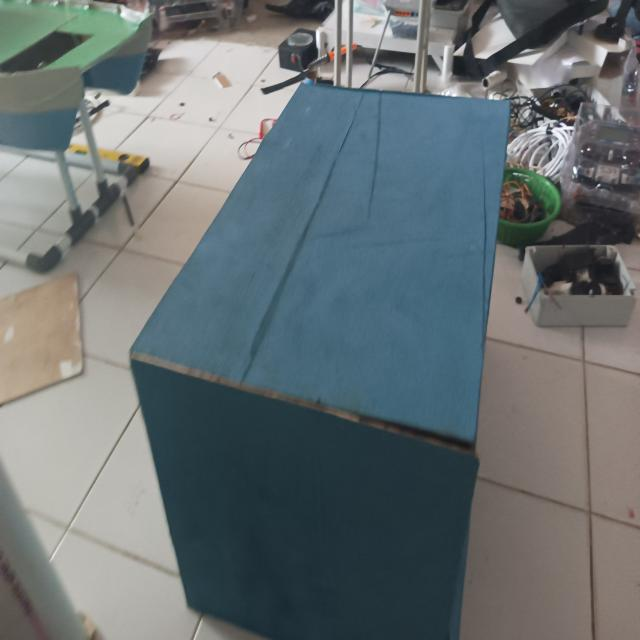blue_box: (153, 23, 511, 640)
